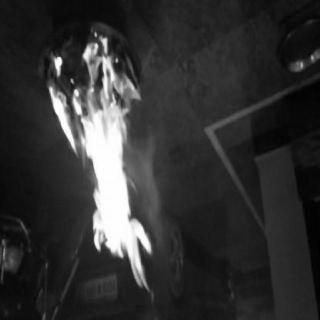Fire: (39, 34, 160, 307)
